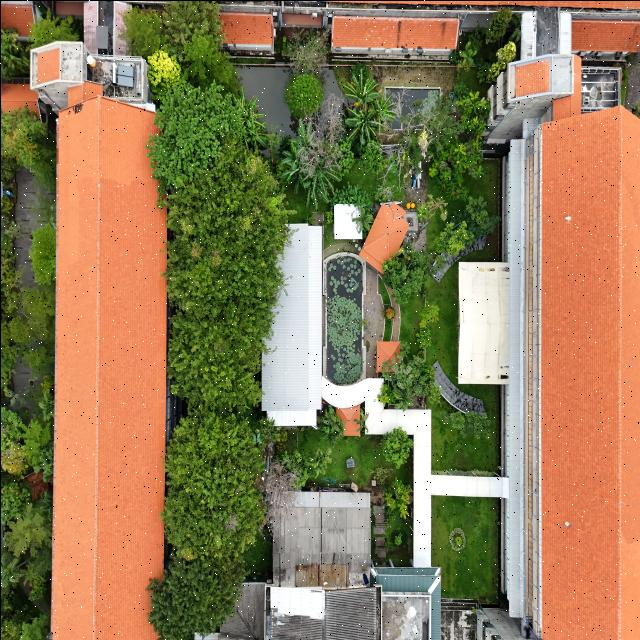Tree: (285, 70, 321, 120), (147, 44, 180, 89), (380, 428, 411, 467), (0, 549, 31, 587), (346, 77, 380, 107), (388, 480, 408, 515), (416, 327, 430, 350)
